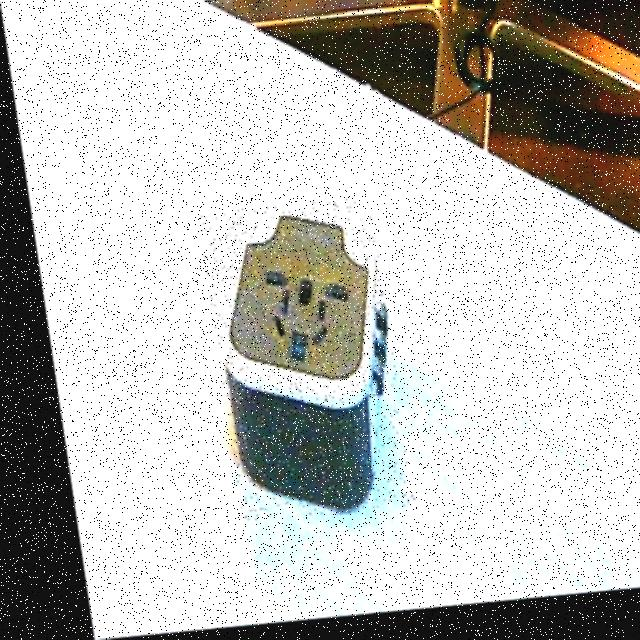adapter: (191, 204, 399, 525)
